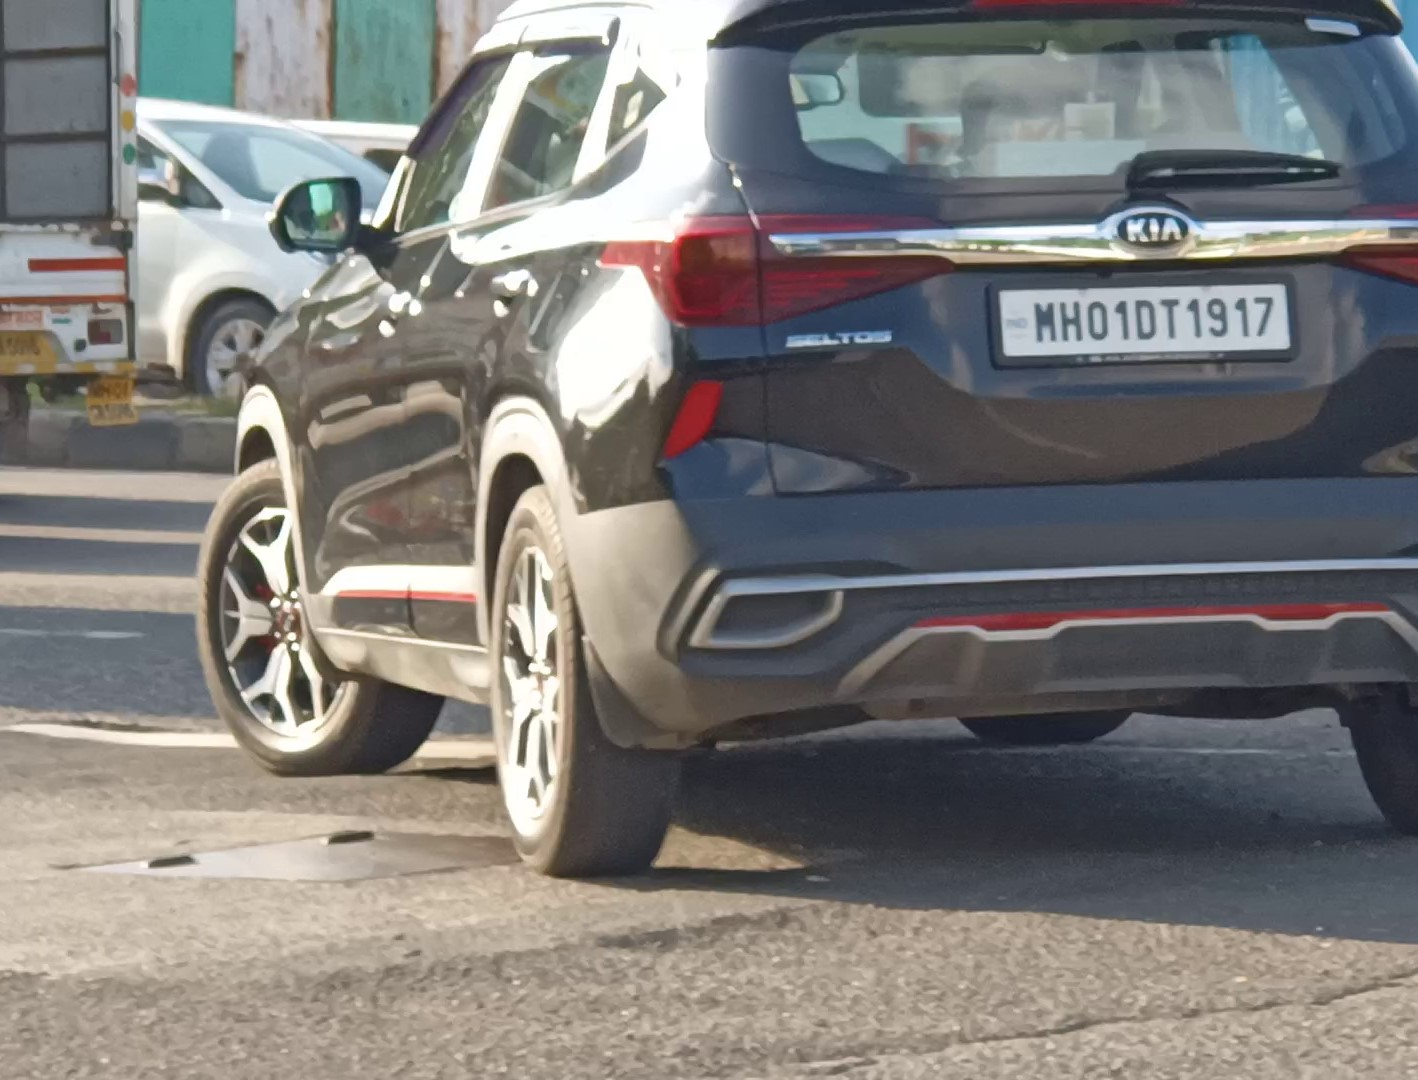MH01DT1917: (1001, 284, 1294, 358)
